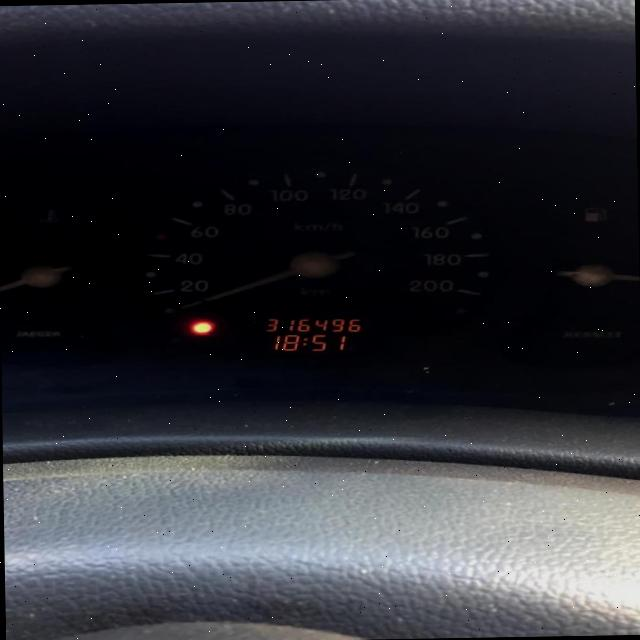odometer: (242, 309, 374, 356)
